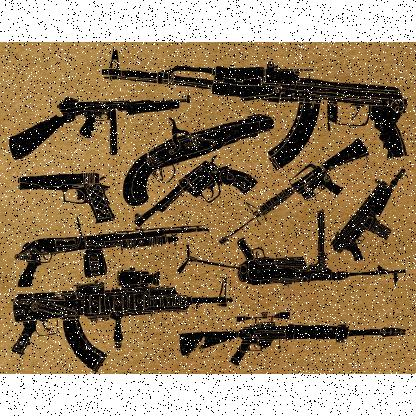gun: (9, 48, 407, 372), (9, 49, 406, 373)
